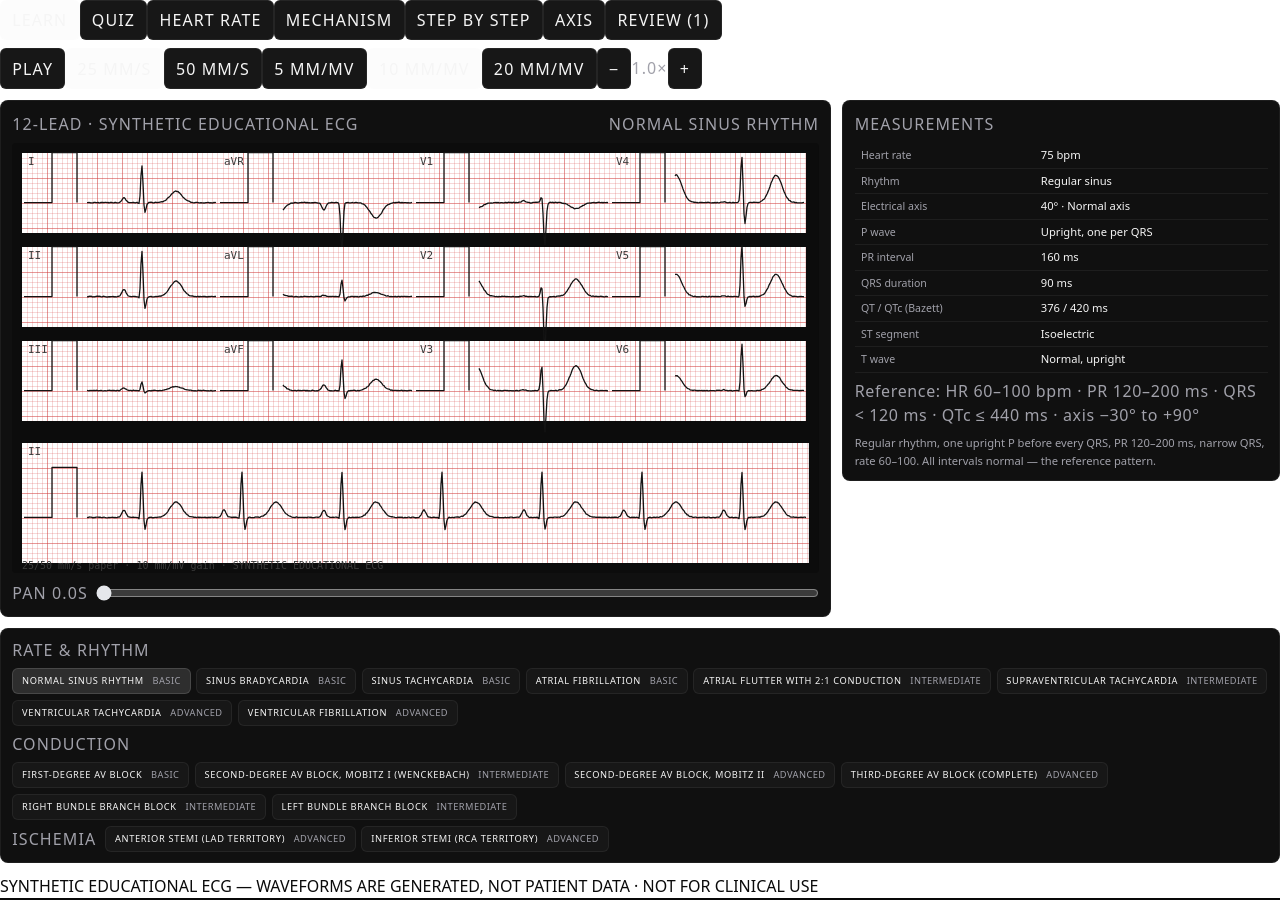
Test: ECG Lab interface › runs a heart rate round with the box counting method
The width and height of the screenshot is (1280, 900).
Click the button "HEART RATE": {"x": 210, "y": 20} [147,0,274,40]
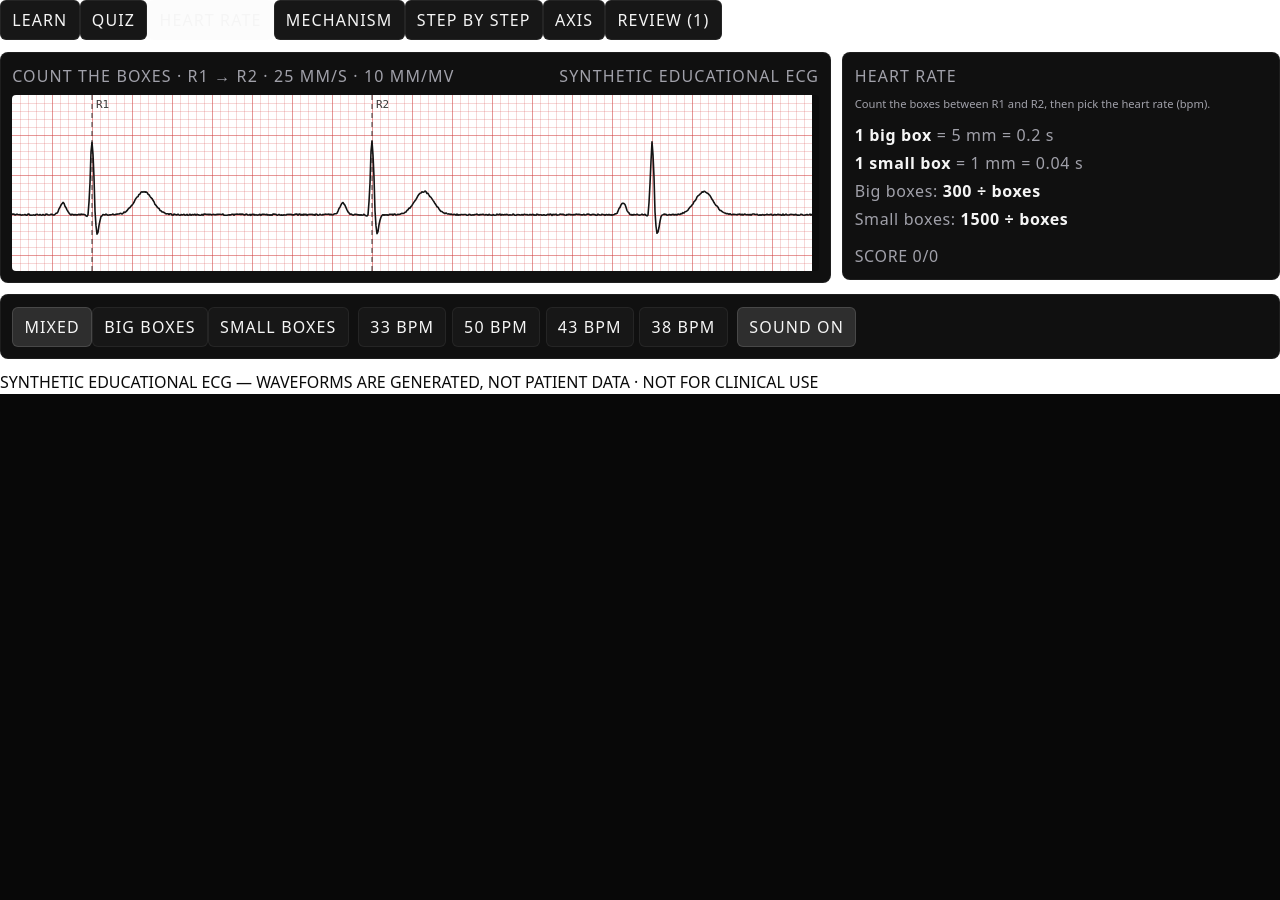
Expected: the picture named "Rhythm strip on ECG paper" is shown, [12,95,812,271]
Expected: the text "1500 ÷ boxes" is shown, [961,208,1068,230]
Click the button "33 bpm": {"x": 402, "y": 327} [358,306,446,347]
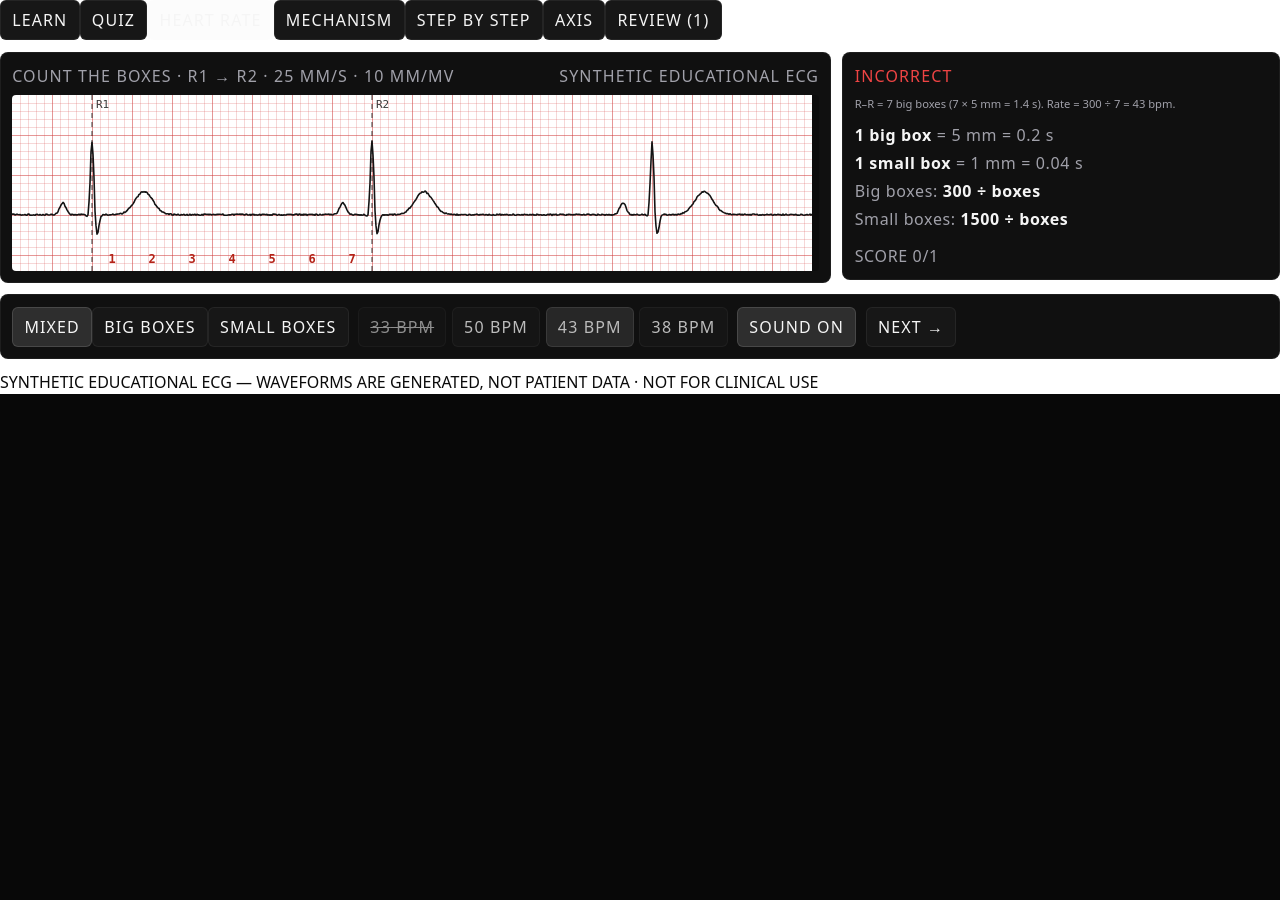
Expected: the text "INCORRECT" is shown, [855,65,952,87]
Expected: the button "NEXT →" is shown, [866,306,956,347]
